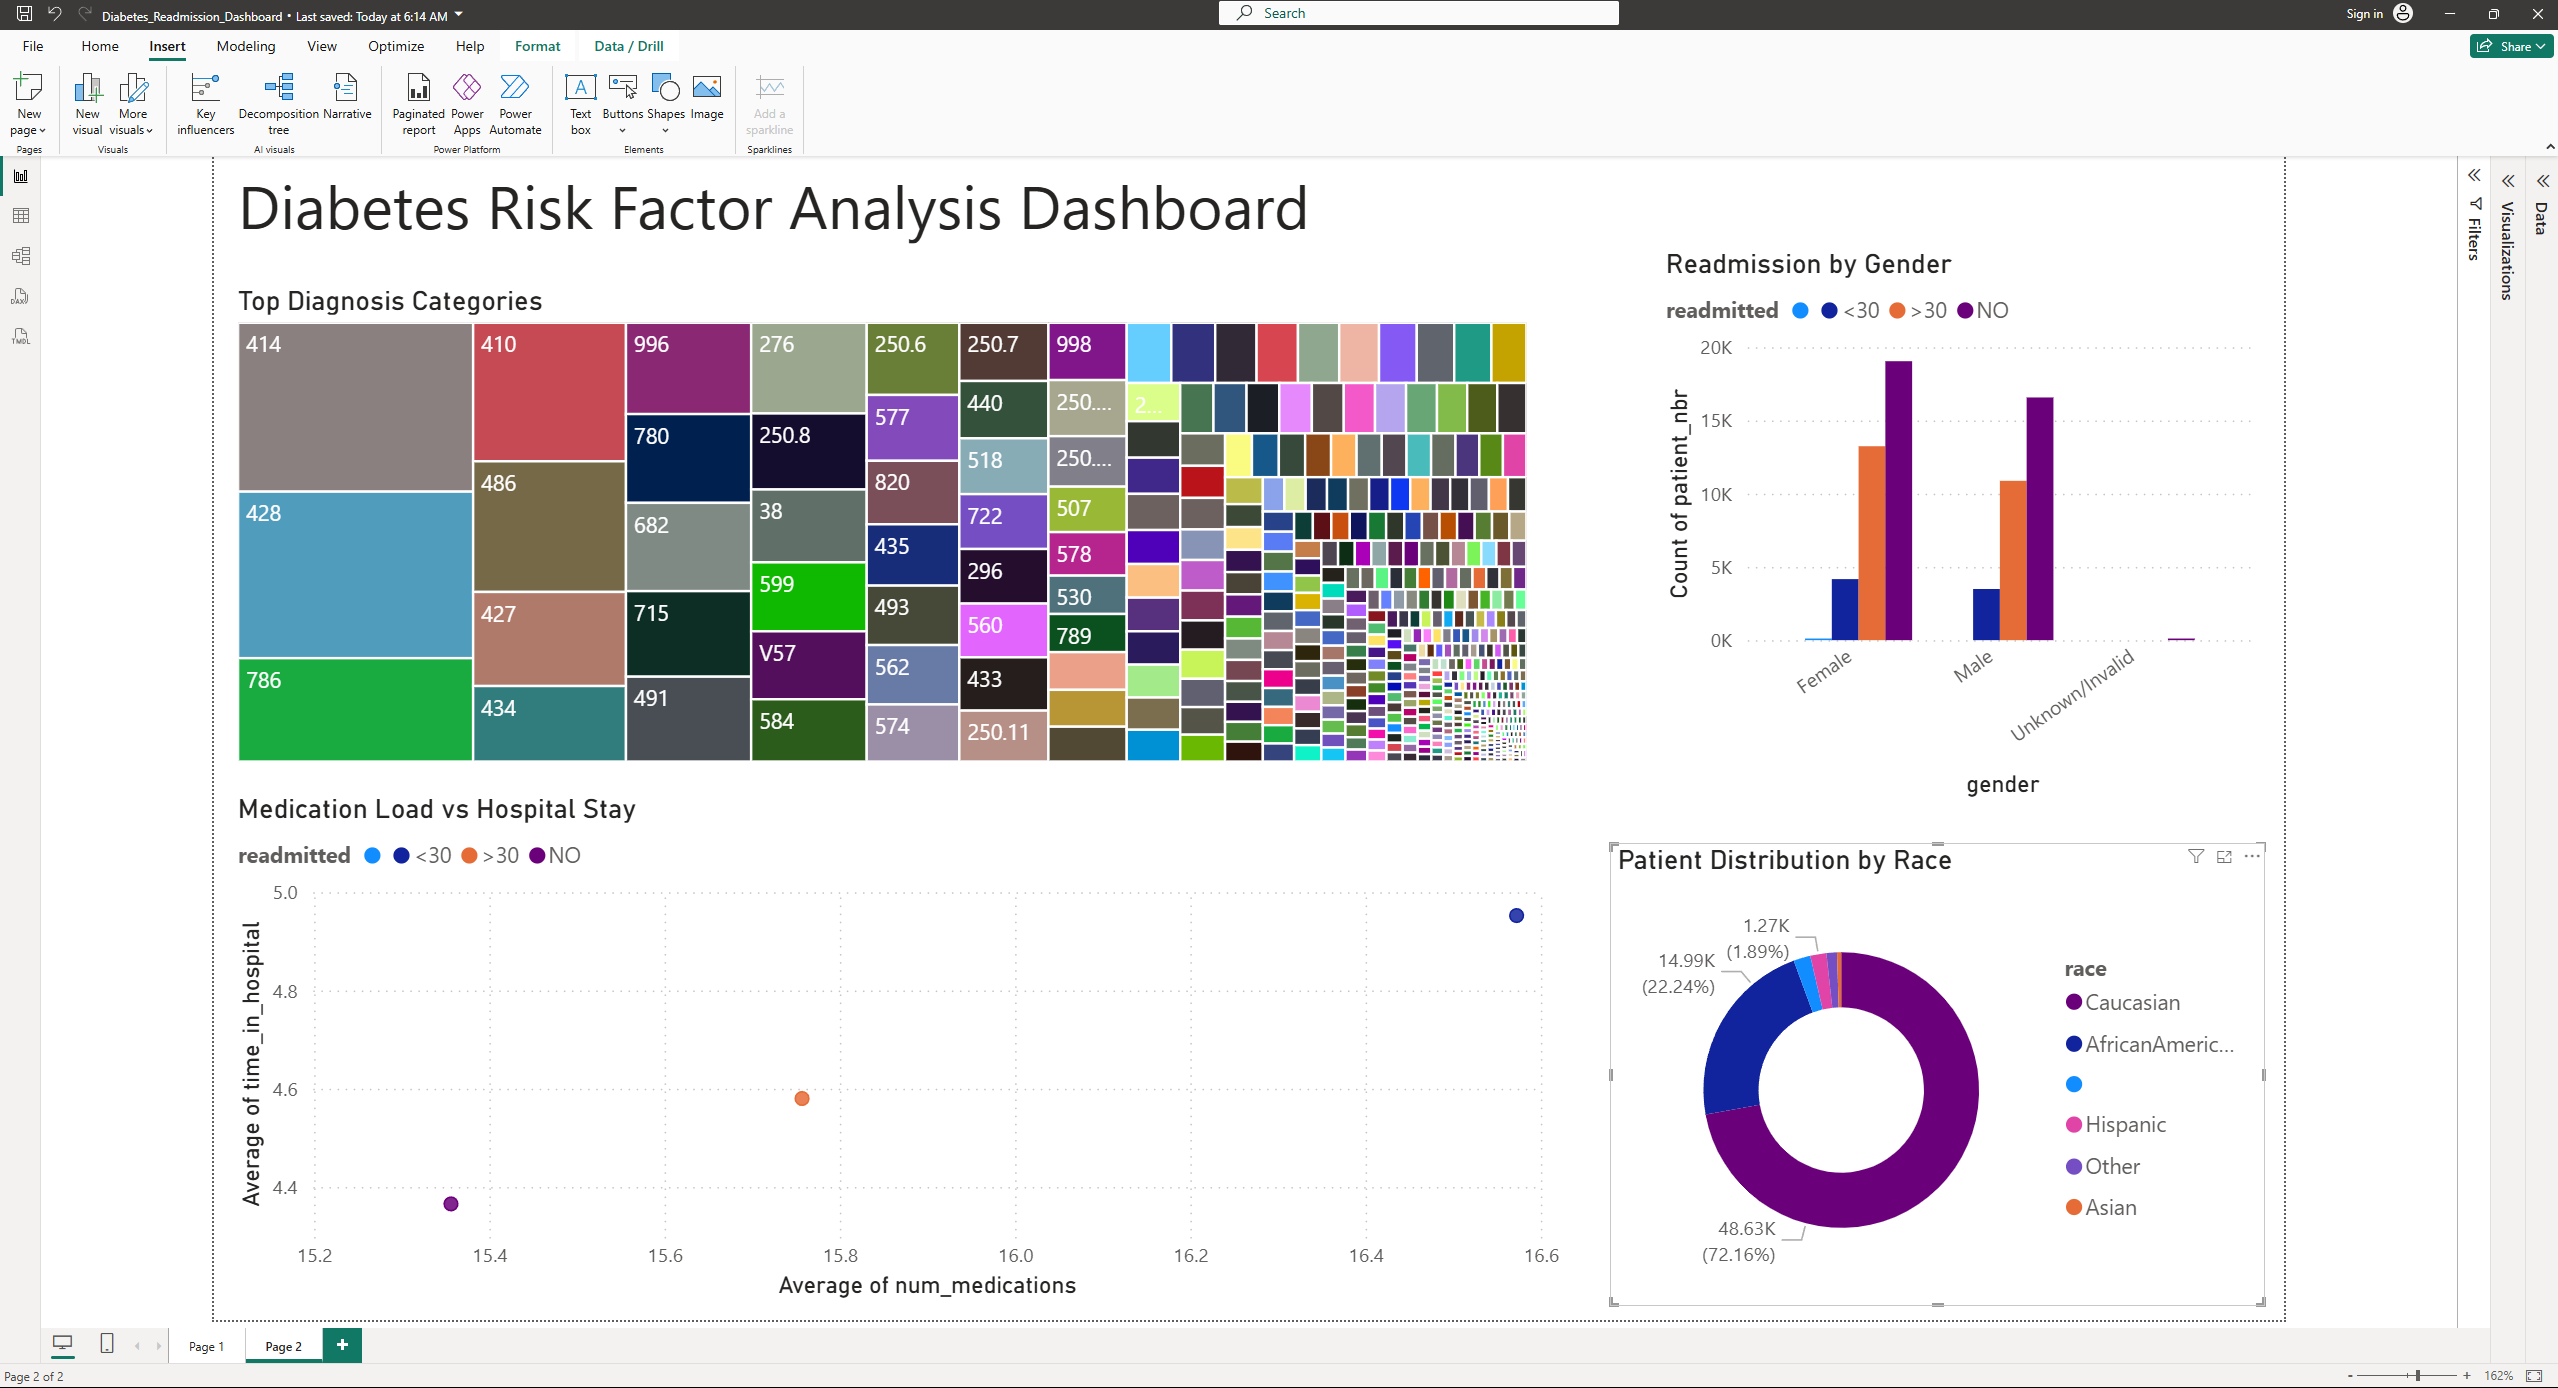

The dashboard page shown, as its layout file describes it:
{"tool":"powerbi","page":{"name":"Page 2","canvas":[1280,720],"ordinal":1},"visuals":[{"type":"textbox","box":[9.9,0,700.8,59.4],"z":0},{"type":"treemap","title":"Top Diagnosis Categories","fields":{"Group":["diabetes_powerbi.diag_1"],"Values":["CountNonNull(diabetes_powerbi.patient_nbr)"]},"box":[9.8,79.2,806.9,300.4],"z":1},{"type":"scatterChart","title":"Medication Load vs Hospital Stay","fields":{"X":["Avg(diabetes_powerbi.num_medications)"],"Y":["Avg(diabetes_powerbi.time_in_hospital)"],"Series":["diabetes_powerbi.readmitted"]},"box":[9.8,393.3,827.8,318],"z":2},{"type":"donutChart","title":"Patient Distribution by Race","fields":{"Category":["diabetes_powerbi.race"],"Y":["CountNonNull(diabetes_powerbi.patient_nbr)"]},"box":[863.8,424.7,405.1,286.6],"z":3},{"type":"clusteredColumnChart","title":"Readmission by Gender","fields":{"Category":["diabetes_powerbi.gender"],"Y":["CountNonNull(diabetes_powerbi.patient_nbr)"],"Series":["diabetes_powerbi.readmitted"]},"box":[893.3,56.3,375.6,345.5],"z":4}]}

Visuals, with their boxes on the page's 1280x720 design canvas (x1, y1, x2, y2). These are canvas units, not pixel positions in the 2558x1388 screenshot, which may show the page scaled, cropped or inside an application window:
textbox: l=10, t=0, r=711, b=59
"Top Diagnosis Categories" treemap: l=10, t=79, r=817, b=380
"Medication Load vs Hospital Stay" scatterChart: l=10, t=393, r=838, b=711
"Patient Distribution by Race" donutChart: l=864, t=425, r=1269, b=711
"Readmission by Gender" clusteredColumnChart: l=893, t=56, r=1269, b=402
